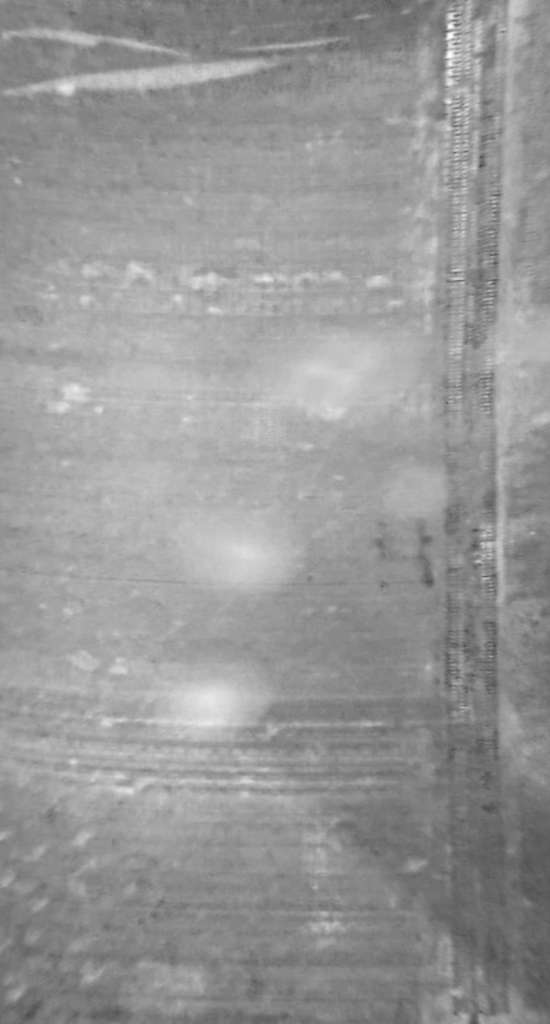splice: (436, 1, 522, 1024)
